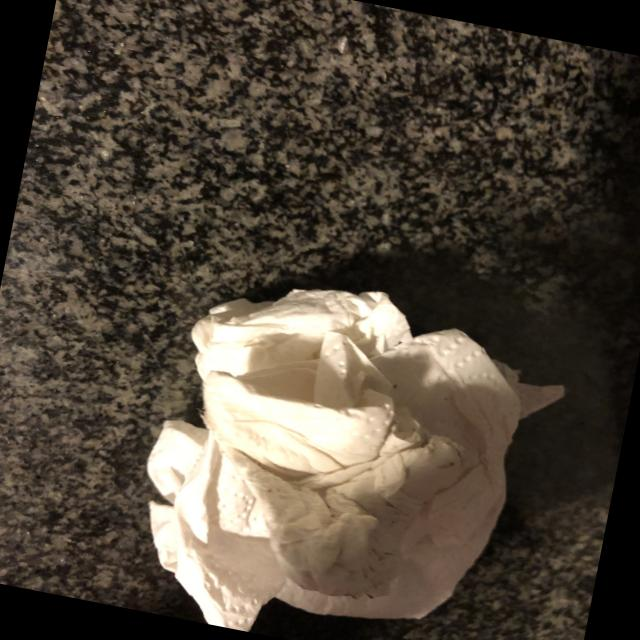organic waste: (118, 255, 585, 640)
